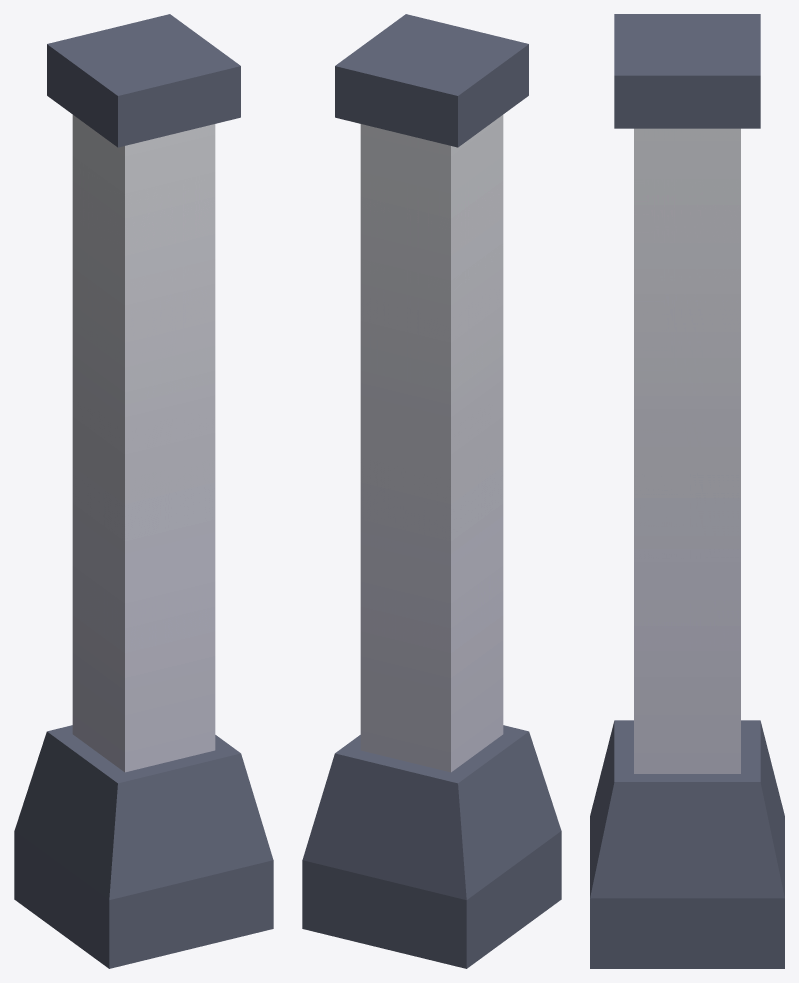
Rendered from bridge-pillar.glb.
3 renders of one model, left to right at view 1: azimuth 30°, elevation 25°; view 2: azimuth 150°, elevation 25°; view 3: azimuth 270°, elevation 25°, orthographic. The views are drawn at different scales.
Parts seen in each view (by area): view 1: bridge-pillar; view 2: bridge-pillar; view 3: bridge-pillar.
Part boxes in pixels (<box>): bridge-pillar: <box>14,14,273,968</box>; bridge-pillar: <box>302,14,561,968</box>; bridge-pillar: <box>590,14,784,968</box>.
Bounding box in the file's own units: 0.1 × 0.5 × 0.1.
Materials: 1 (1 with a texture image).
